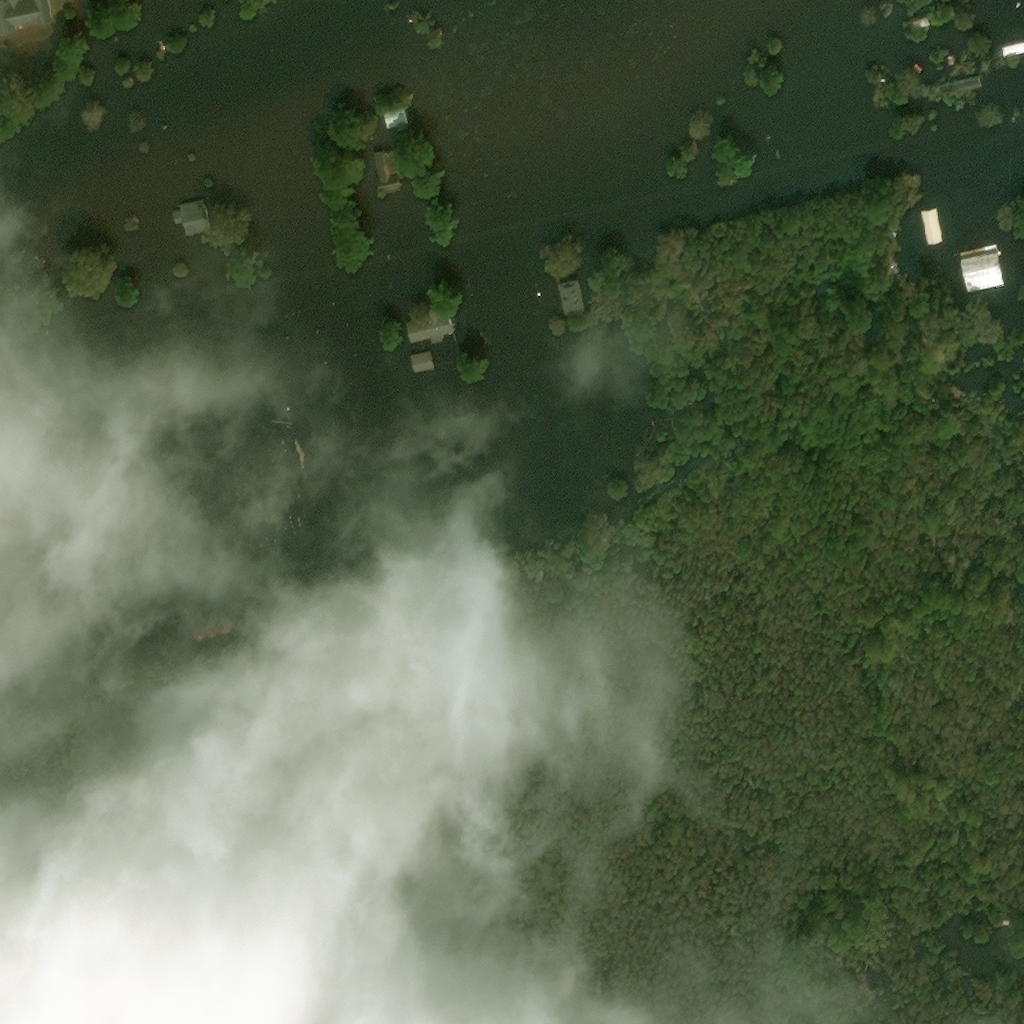major_damage: (959, 244, 1006, 292), (407, 309, 454, 344), (173, 199, 212, 234), (64, 269, 108, 298), (372, 149, 401, 193), (927, 78, 982, 101), (557, 279, 586, 315), (922, 210, 945, 246), (24, 254, 49, 275), (413, 351, 435, 374), (380, 105, 405, 124), (1000, 41, 1022, 56), (156, 151, 177, 165), (912, 17, 930, 31), (188, 623, 201, 636), (201, 621, 213, 632), (215, 617, 226, 628), (947, 55, 956, 64), (921, 90, 928, 98)
no_damage: (0, 0, 51, 32)
